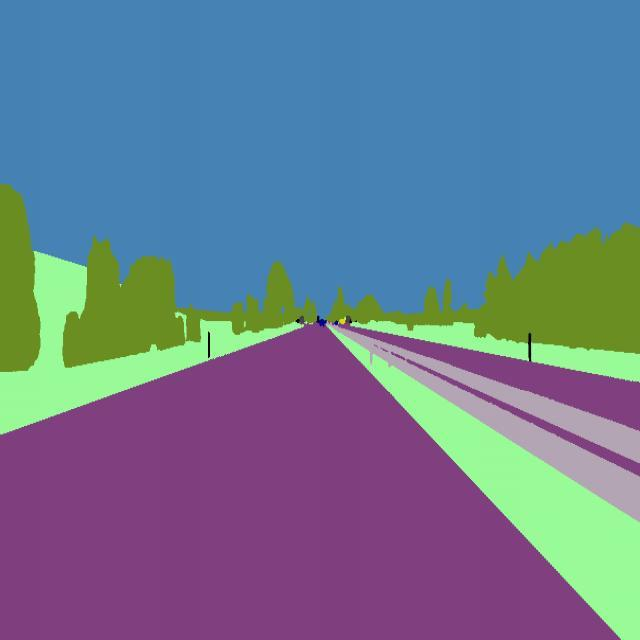safe: (315, 315, 328, 332)
